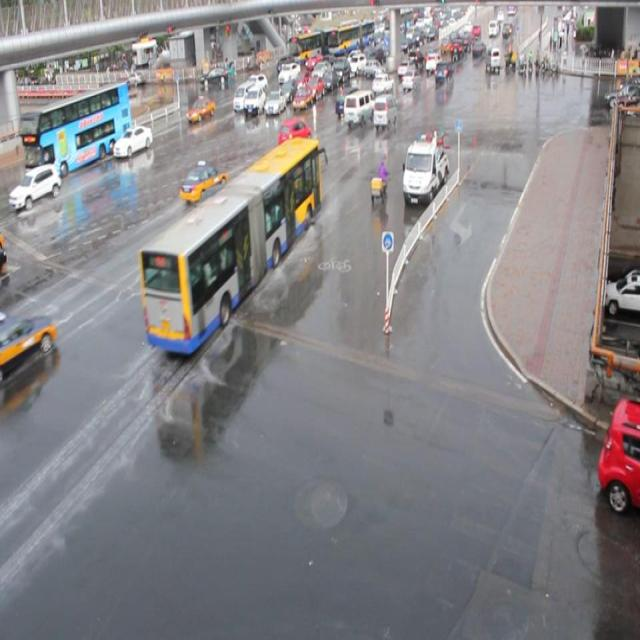bus: (402, 137, 448, 206)
car: (1, 311, 55, 370), (15, 164, 62, 209), (195, 182, 239, 228), (180, 160, 228, 201), (249, 146, 288, 188), (113, 124, 153, 157), (277, 119, 311, 154), (334, 84, 363, 115), (186, 95, 216, 122), (264, 92, 286, 117), (245, 73, 269, 95), (292, 87, 312, 113), (371, 73, 394, 95), (305, 76, 324, 102), (279, 80, 298, 103), (292, 72, 311, 93)
truck: (343, 88, 376, 126), (372, 93, 397, 130), (232, 81, 258, 111), (246, 85, 268, 116)
van: (137, 135, 321, 357), (20, 81, 134, 180)
